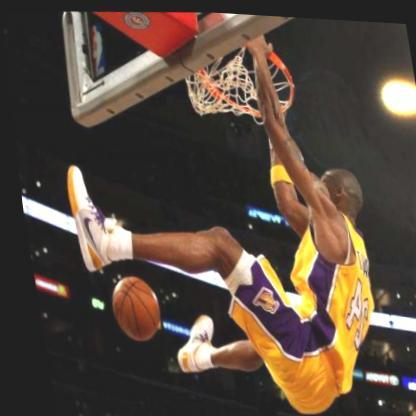basketball: (100, 271, 158, 342)
